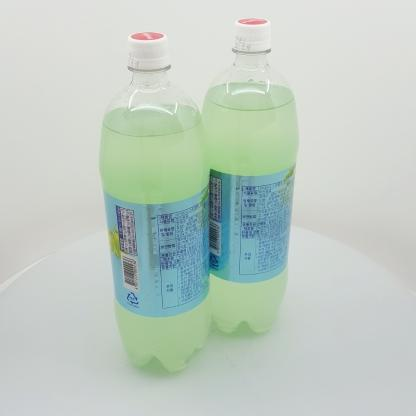---------------: (99, 31, 212, 372), (200, 18, 299, 334)
